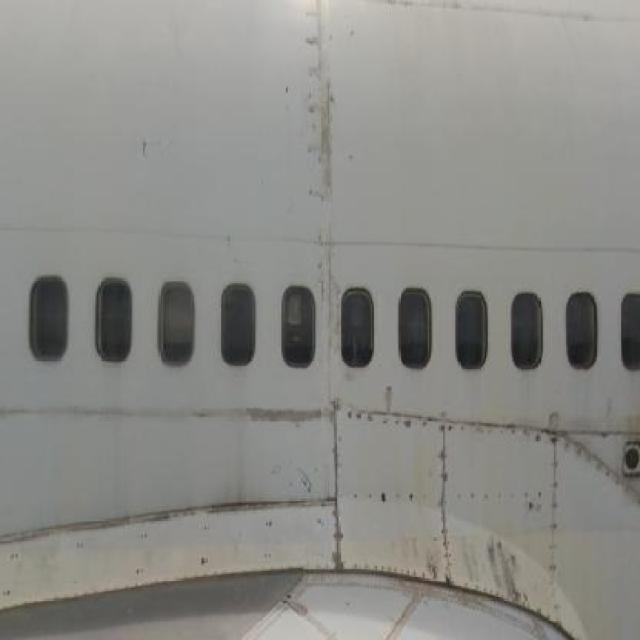Missing-Rivet: (272, 398, 622, 480), (406, 482, 474, 601), (525, 478, 573, 640), (302, 487, 375, 593)
Scartch: (293, 11, 344, 269), (479, 519, 526, 616)
